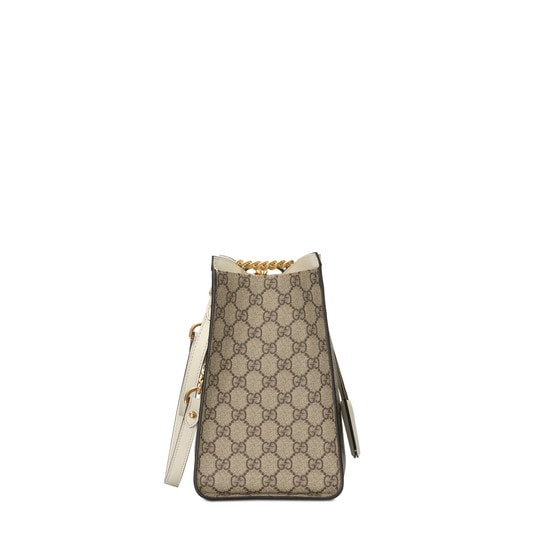Gucci: (185, 236, 379, 514), (224, 310, 336, 479)
